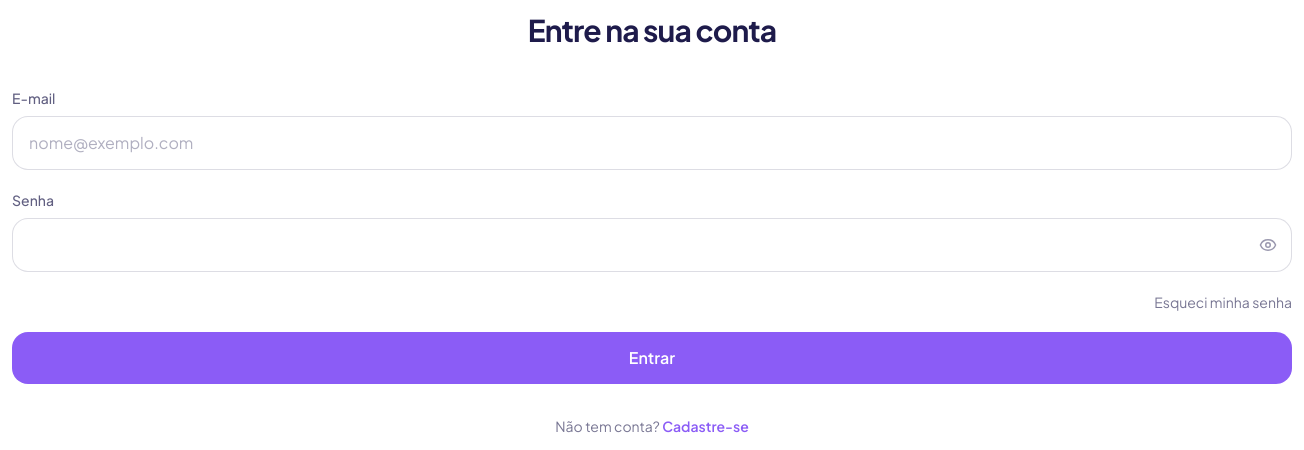
Test case: campo de senha › alterna a visibilidade da senha e anuncia o estado
The width and height of the screenshot is (1304, 450).
Click the button named "Mostrar senha" at (1268, 245), box [1244,218,1292,272]
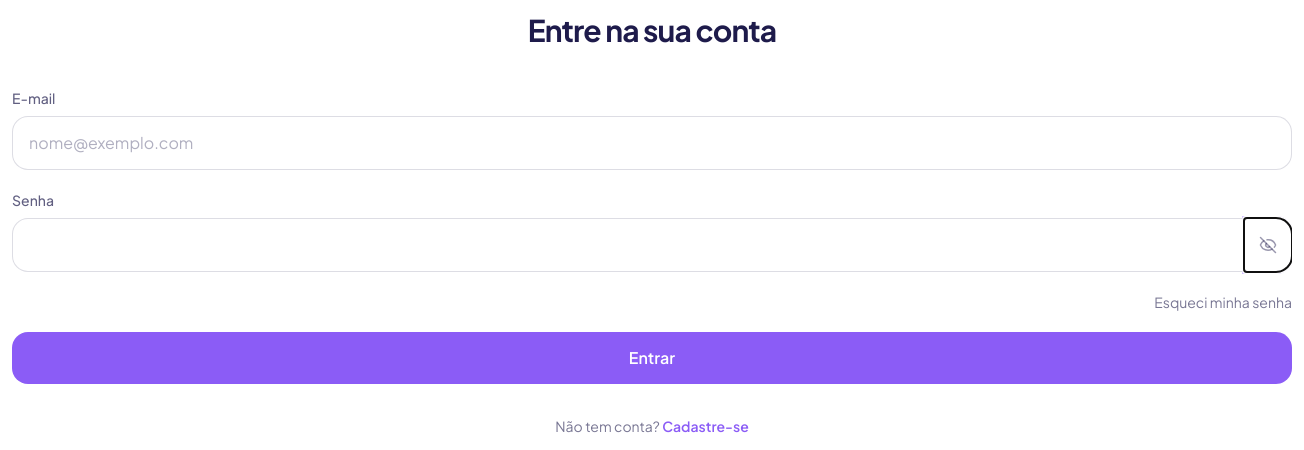
Expected: the button named "Ocultar senha" is shown, [1244,218,1292,272]
